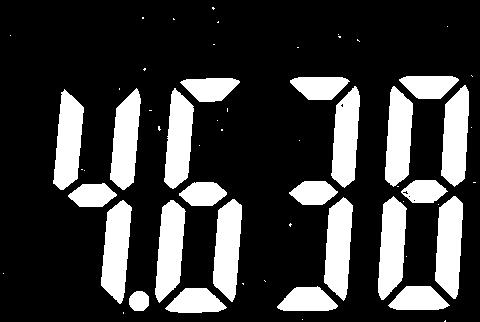3: (273, 74, 362, 312)
4: (49, 88, 142, 307)
6: (153, 75, 247, 316)
8: (375, 72, 472, 314)
dot: (128, 288, 152, 312)
